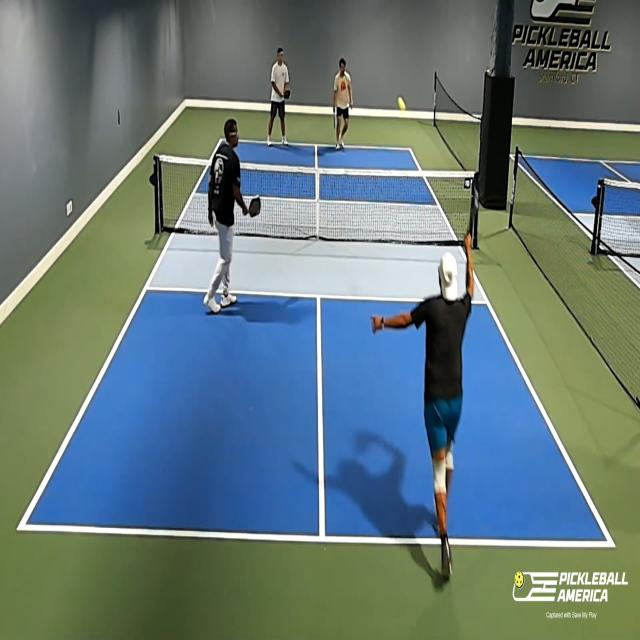Pickleball: (396, 95, 407, 110)
